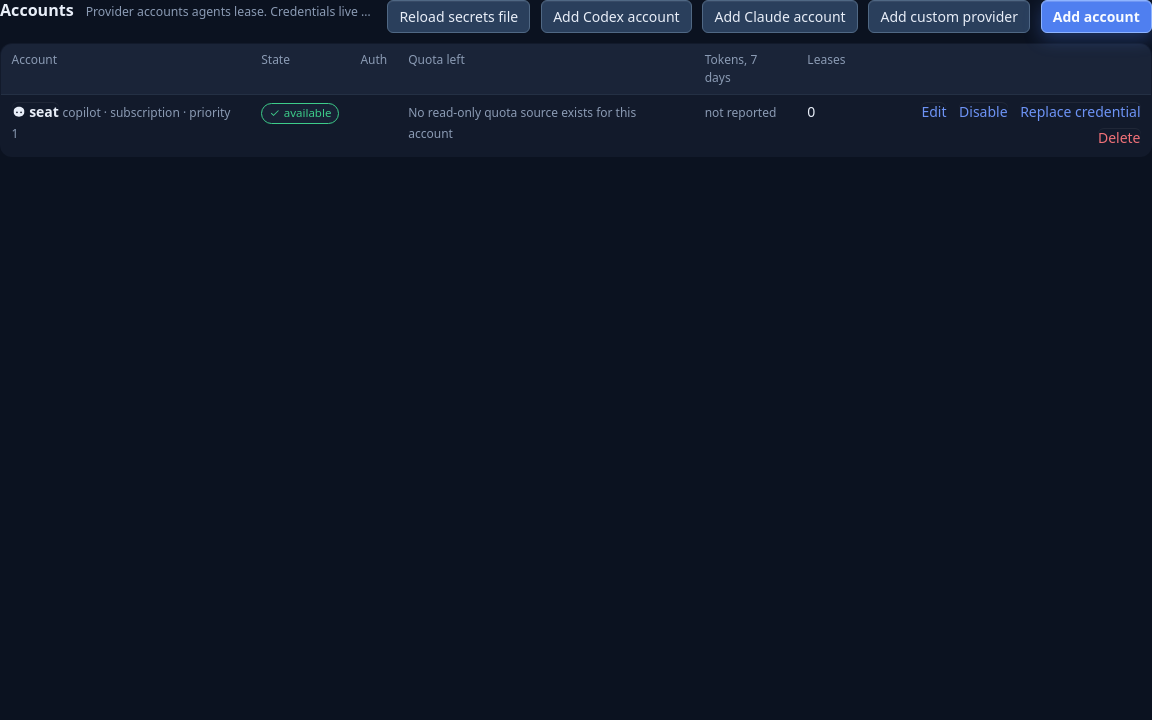
Scenario: Accounts with copilot › shows only redacted credential state in the account detail
This screenshot has width=1152, height=720.
Expected: the picture named "GitHub Copilot" is shown, [12,105,26,119]
Click the button with class "account-name" at (35, 113), box [12,102,59,123]
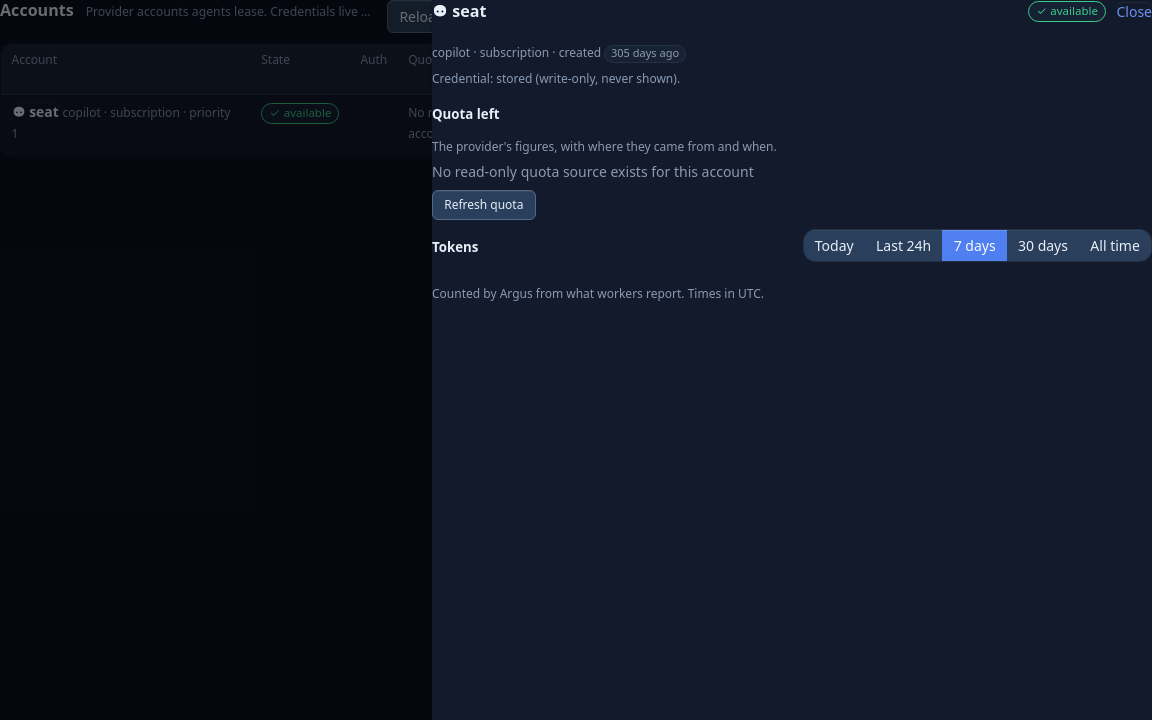
Result: the text "Credential: stored (write-only, never shown)." is shown at [432,70,680,87]
